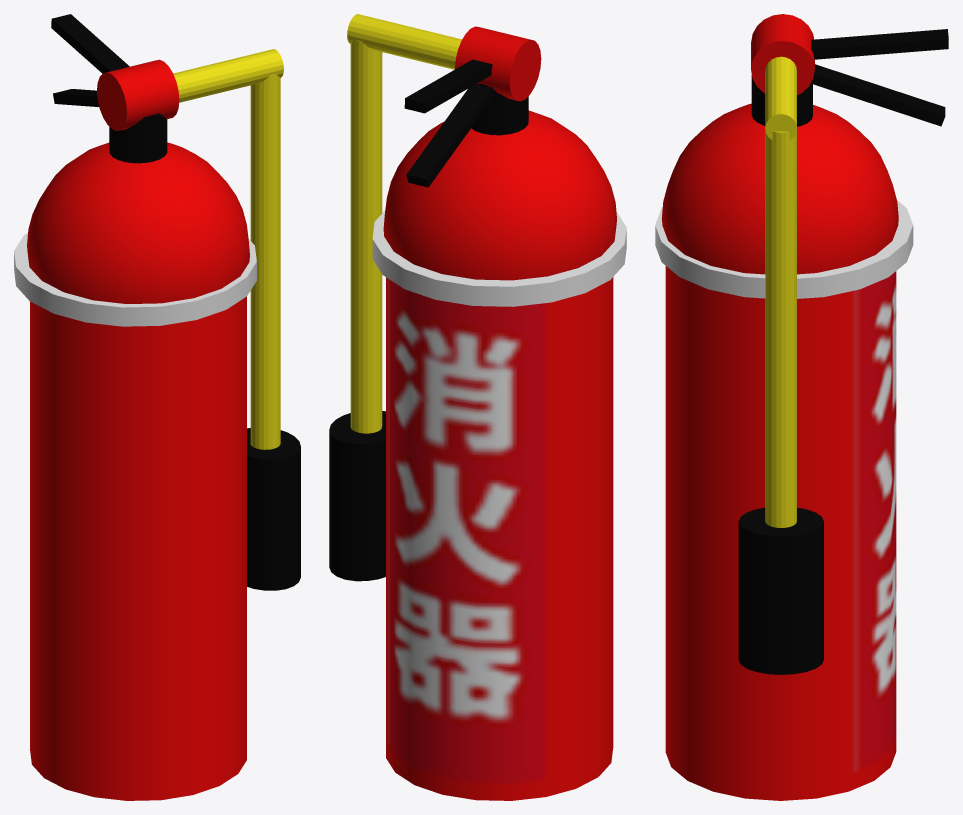
Rendered from firehousewait.fbx.
The picture shows the model from 3 angles, left to right: view 1: azimuth 30°, elevation 25°; view 2: azimuth 150°, elevation 25°; view 3: azimuth 270°, elevation 25°; orthographic projection. The views are drawn at different scales.
Visible parts, largest first — view 1: pCylinder4, pSphere1, pCylinder3, pasted__pasted__pasted__pasted__pasted__pCylinder1, pCylinder1, pCylinder2, pasted__pCylinder3, pasted__pasted__pasted__pasted__pCylinder1, pasted__pCube1, pCube1; view 2: pCylinder4, pSphere1, pCylinder3, pasted__pasted__pasted__pasted__pasted__pCylinder1, pCylinder1, pCylinder2, pasted__pCylinder3, pCube1, pasted__pCube1, pasted__pasted__pasted__pasted__pCylinder1; view 3: pCylinder4, pSphere1, pasted__pasted__pasted__pasted__pasted__pCylinder1, pCylinder3, pCylinder1, pCylinder2, pasted__pCube1, pCube1, pasted__pCylinder3, pasted__pasted__pasted__pasted__pCylinder1.
Boxes of the visible parts, bbox=[...] form: pCylinder4: bbox=[30, 296, 246, 800]; pSphere1: bbox=[27, 142, 249, 303]; pCylinder3: bbox=[250, 74, 280, 449]; pasted__pasted__pasted__pasted__pasted__pCylinder1: bbox=[247, 428, 300, 590]; pCylinder1: bbox=[14, 233, 256, 326]; pCylinder2: bbox=[97, 59, 179, 131]; pasted__pCylinder3: bbox=[173, 49, 283, 102]; pasted__pasted__pasted__pasted__pCylinder1: bbox=[109, 113, 167, 163]; pasted__pCube1: bbox=[51, 14, 129, 73]; pCube1: bbox=[53, 89, 99, 106]; pCylinder4: bbox=[386, 277, 613, 800]; pSphere1: bbox=[383, 110, 616, 280]; pCylinder3: bbox=[350, 40, 382, 433]; pasted__pasted__pasted__pasted__pasted__pCylinder1: bbox=[329, 411, 385, 581]; pCylinder1: bbox=[372, 210, 626, 306]; pCylinder2: bbox=[455, 26, 541, 101]; pasted__pCylinder3: bbox=[347, 14, 461, 69]; pCube1: bbox=[406, 84, 492, 187]; pasted__pCube1: bbox=[404, 59, 492, 113]; pasted__pasted__pasted__pasted__pCylinder1: bbox=[471, 84, 528, 135]; pCylinder4: bbox=[665, 266, 896, 800]; pSphere1: bbox=[661, 103, 898, 274]; pasted__pasted__pasted__pasted__pasted__pCylinder1: bbox=[738, 507, 823, 674]; pCylinder3: bbox=[765, 130, 796, 527]; pCylinder1: bbox=[655, 200, 913, 298]; pCylinder2: bbox=[751, 14, 814, 95]; pasted__pCube1: bbox=[811, 29, 948, 59]; pCube1: bbox=[811, 64, 945, 126]; pasted__pCylinder3: bbox=[765, 56, 796, 140]; pasted__pasted__pasted__pasted__pCylinder1: bbox=[751, 75, 812, 126].
Bounding box in the file's own units: 0.7746 × 1.93 × 0.7073.
